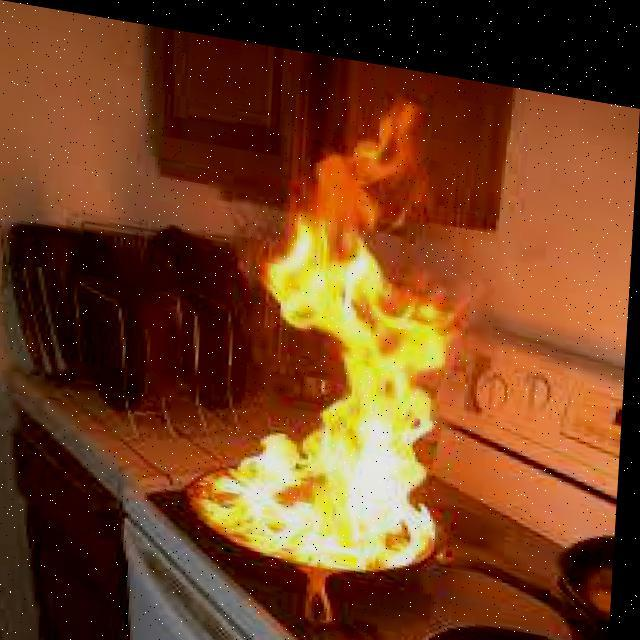Fire: (203, 76, 514, 575)
